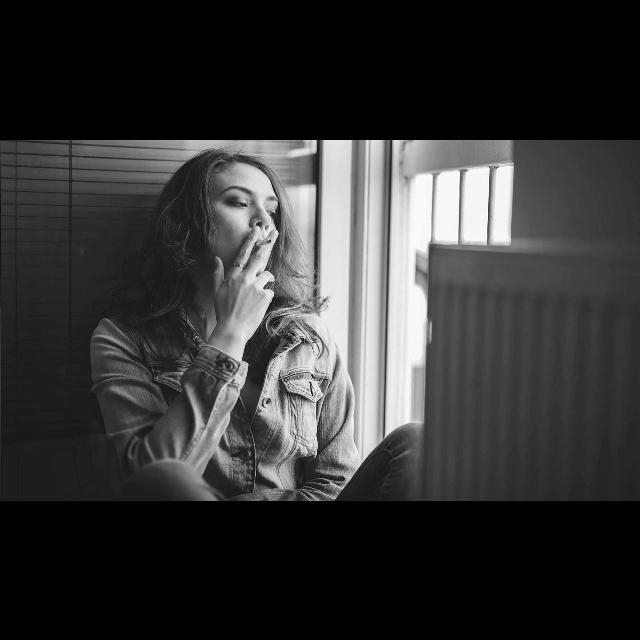rokok: (257, 232, 279, 250)
